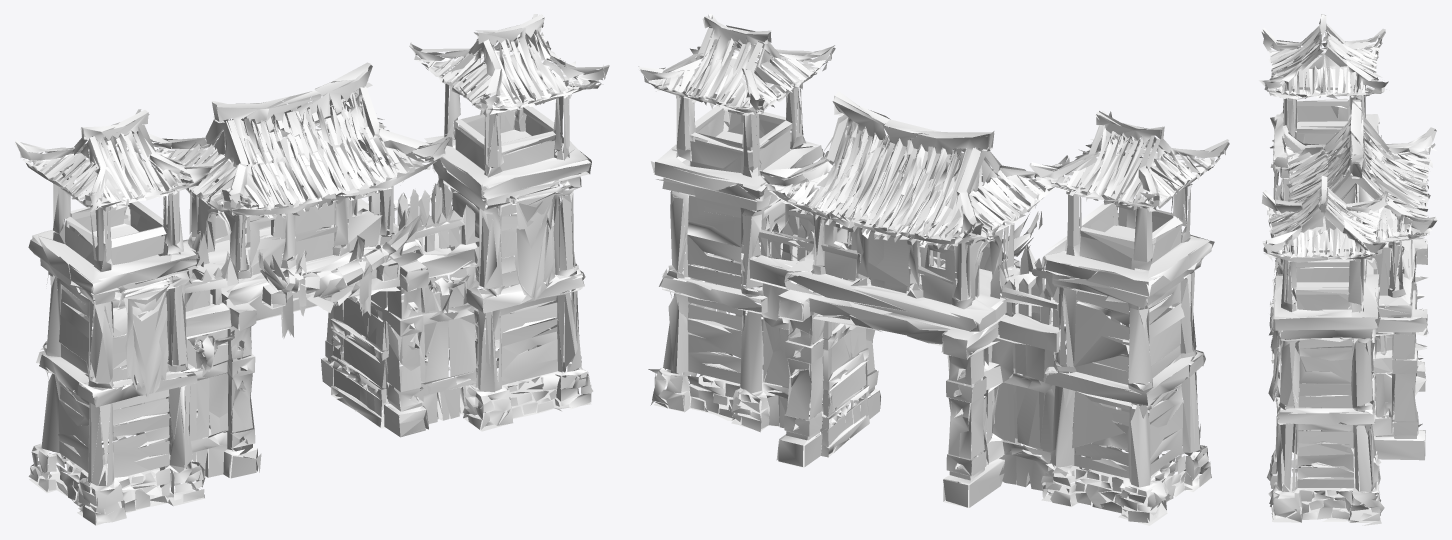
Rendered from gate_fang_lod1.glb.
The picture shows the model from 3 angles, left to right: view 1: azimuth 30°, elevation 25°; view 2: azimuth 150°, elevation 25°; view 3: azimuth 270°, elevation 25°; orthographic projection. The views are drawn at different scales.
Visible parts, largest first — view 1: gate_fang; view 2: gate_fang; view 3: gate_fang.
Boxes of the visible parts, <box> form: gate_fang: <box>14,14,609,525</box>; gate_fang: <box>638,14,1229,525</box>; gate_fang: <box>1258,14,1437,525</box>.
Size of the model in its own units: 20.67 by 14.09 by 7.29.
1 material, 1 textured.
